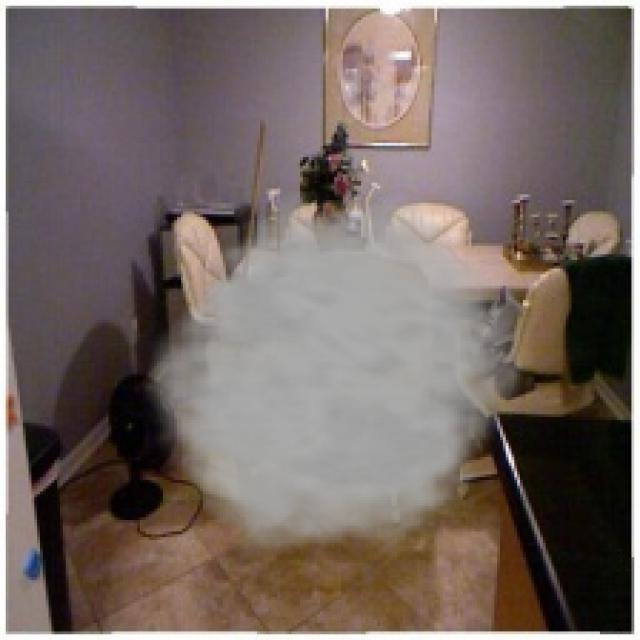Smoke: (134, 192, 543, 572)
